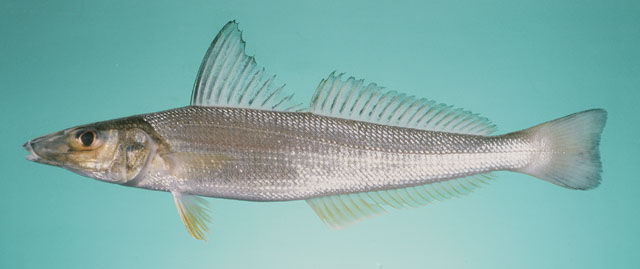fish: (20, 18, 609, 242)
